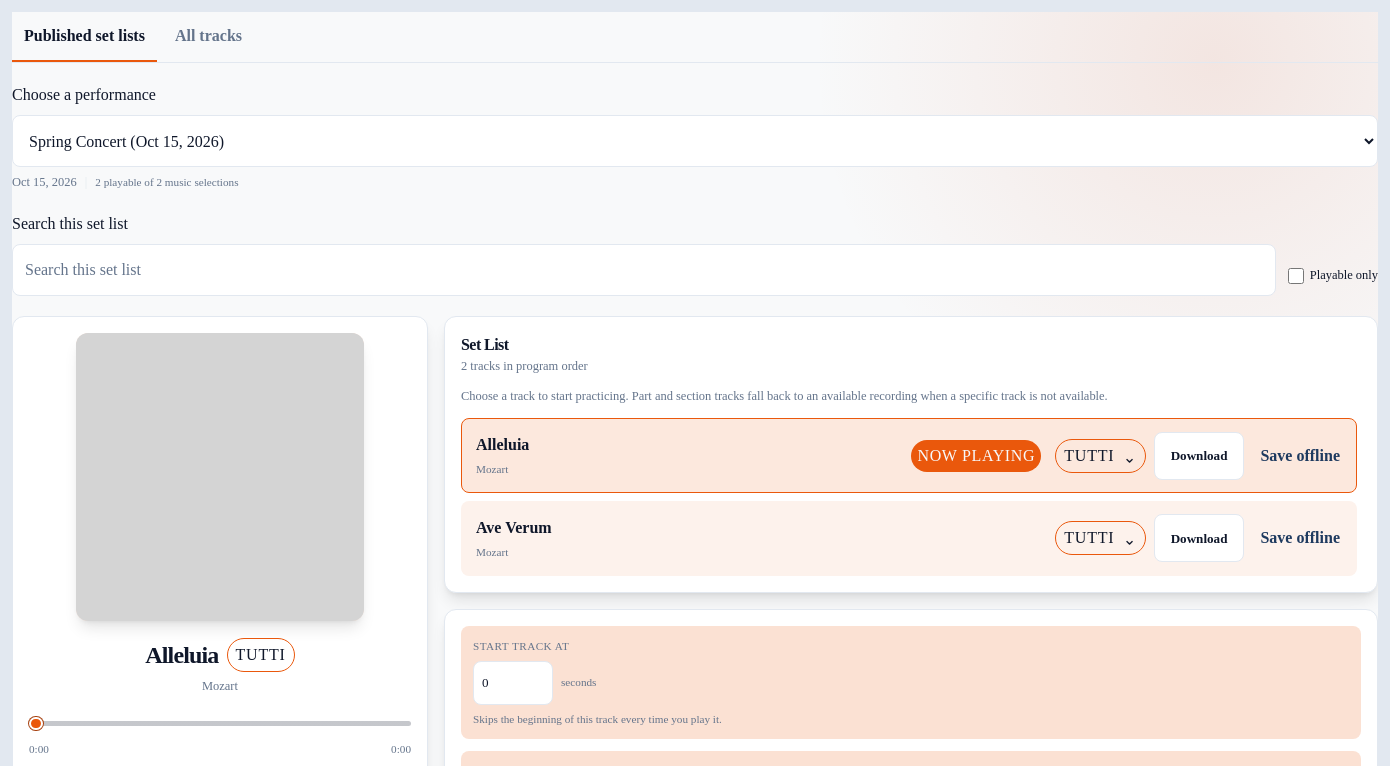
Test: MemberPracticeView published set lists and selection › scopes search to the chosen published set list
This screenshot has width=1390, height=766.
Type "Alleluia" into the search field with placeholder "Search this set list" at point(644, 270), box left=12, top=244, right=1276, bottom=296
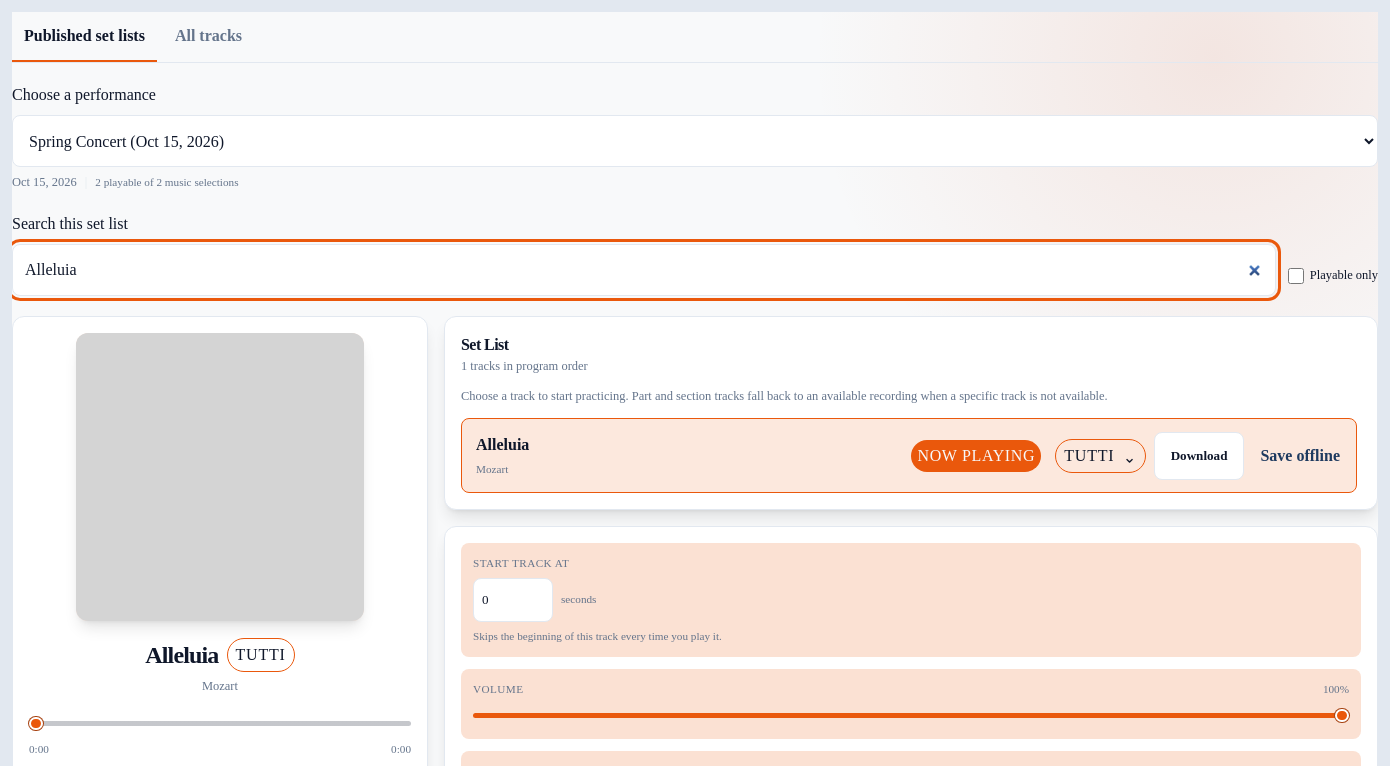
Check: the heading "Alleluia" is shown, box left=145, top=637, right=219, bottom=673
Check: the button "Ave Verum" is gone
